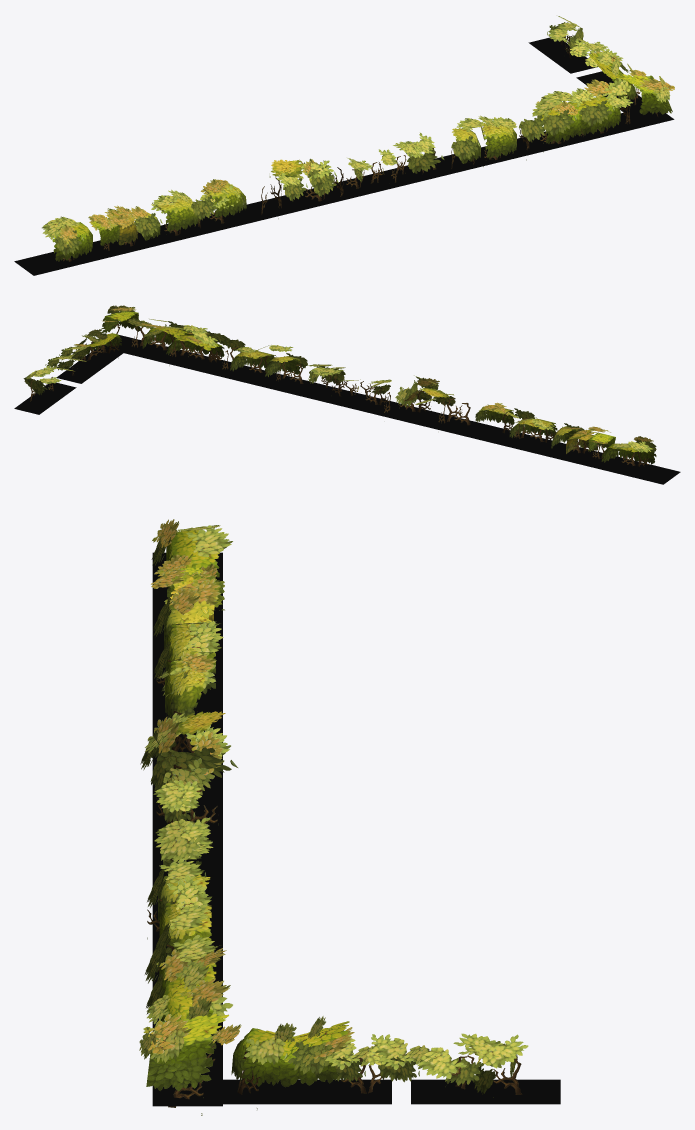
File: K1_oldhedgerow1_2.FBX
The picture shows the model from 3 angles, top to bottom: view 1: azimuth 30°, elevation 25°; view 2: azimuth 150°, elevation 25°; view 3: azimuth 270°, elevation 25°; orthographic projection. The views are drawn at different scales.
Visible parts, largest first — view 1: k1_oldcao434, k1_oldcao426, k1_oldcao433, k1_oldcao440, k1_oldcao422, k1_oldcao416, k1_oldcao420, k1_oldcao430, k1_oldcao428, k1_oldcao419, k1_oldcao443, k1_oldcao415 (+12 smaller); view 2: k1_oldcao434, k1_oldcao419, k1_oldcao416, k1_oldcao415, k1_oldcao433, k1_oldcao426, k1_oldcao444, k1_oldcao440, k1_oldcao443, k1_oldcao436, k1_oldcao422, k1_oldcao410 (+13 smaller); view 3: k1_oldcao440, k1_oldcao410, k1_oldcao436, k1_oldcao426, k1_oldcao434, k1_oldcao428, k1_oldcao433, k1_oldcao430, k1_oldcao422, k1_oldcao442, k1_oldcao420, k1_oldcao419 (+5 smaller).
Boxes of the visible parts, box(x1,y1,x2,y2) form: k1_oldcao434: box(519, 88, 620, 143); k1_oldcao426: box(151, 179, 246, 234); k1_oldcao433: box(451, 115, 517, 163); k1_oldcao440: box(588, 48, 674, 114); k1_oldcao422: box(88, 205, 162, 245); k1_oldcao416: box(137, 200, 313, 246); k1_oldcao420: box(42, 216, 92, 261); k1_oldcao430: box(347, 132, 444, 182); k1_oldcao428: box(277, 158, 338, 201); k1_oldcao419: box(346, 154, 458, 194); k1_oldcao443: box(428, 137, 548, 177); k1_oldcao415: box(246, 180, 367, 218); k1_oldcao434: box(142, 321, 245, 357); k1_oldcao419: box(265, 375, 384, 412); k1_oldcao416: box(415, 422, 565, 458); k1_oldcao415: box(369, 400, 475, 434); k1_oldcao433: box(230, 345, 307, 376); k1_oldcao426: box(475, 402, 557, 437); k1_oldcao444: box(125, 339, 234, 376); k1_oldcao440: box(74, 305, 140, 354); k1_oldcao443: box(207, 361, 323, 395); k1_oldcao436: box(57, 341, 133, 383); k1_oldcao422: box(551, 423, 615, 453); k1_oldcao410: box(23, 346, 87, 395); k1_oldcao440: box(139, 1013, 354, 1091); k1_oldcao410: box(325, 1033, 528, 1094); k1_oldcao436: box(174, 1079, 391, 1104); k1_oldcao426: box(153, 621, 223, 717); k1_oldcao434: box(145, 923, 232, 1048); k1_oldcao428: box(140, 713, 237, 794); k1_oldcao433: box(147, 859, 211, 961); k1_oldcao430: box(153, 780, 213, 876); k1_oldcao422: box(151, 554, 220, 648); k1_oldcao442: box(411, 1079, 560, 1104); k1_oldcao420: box(151, 519, 232, 588); k1_oldcao419: box(152, 841, 222, 941).
Bounding box in the file's own units: 19.91 × 1.63 × 6.41.
